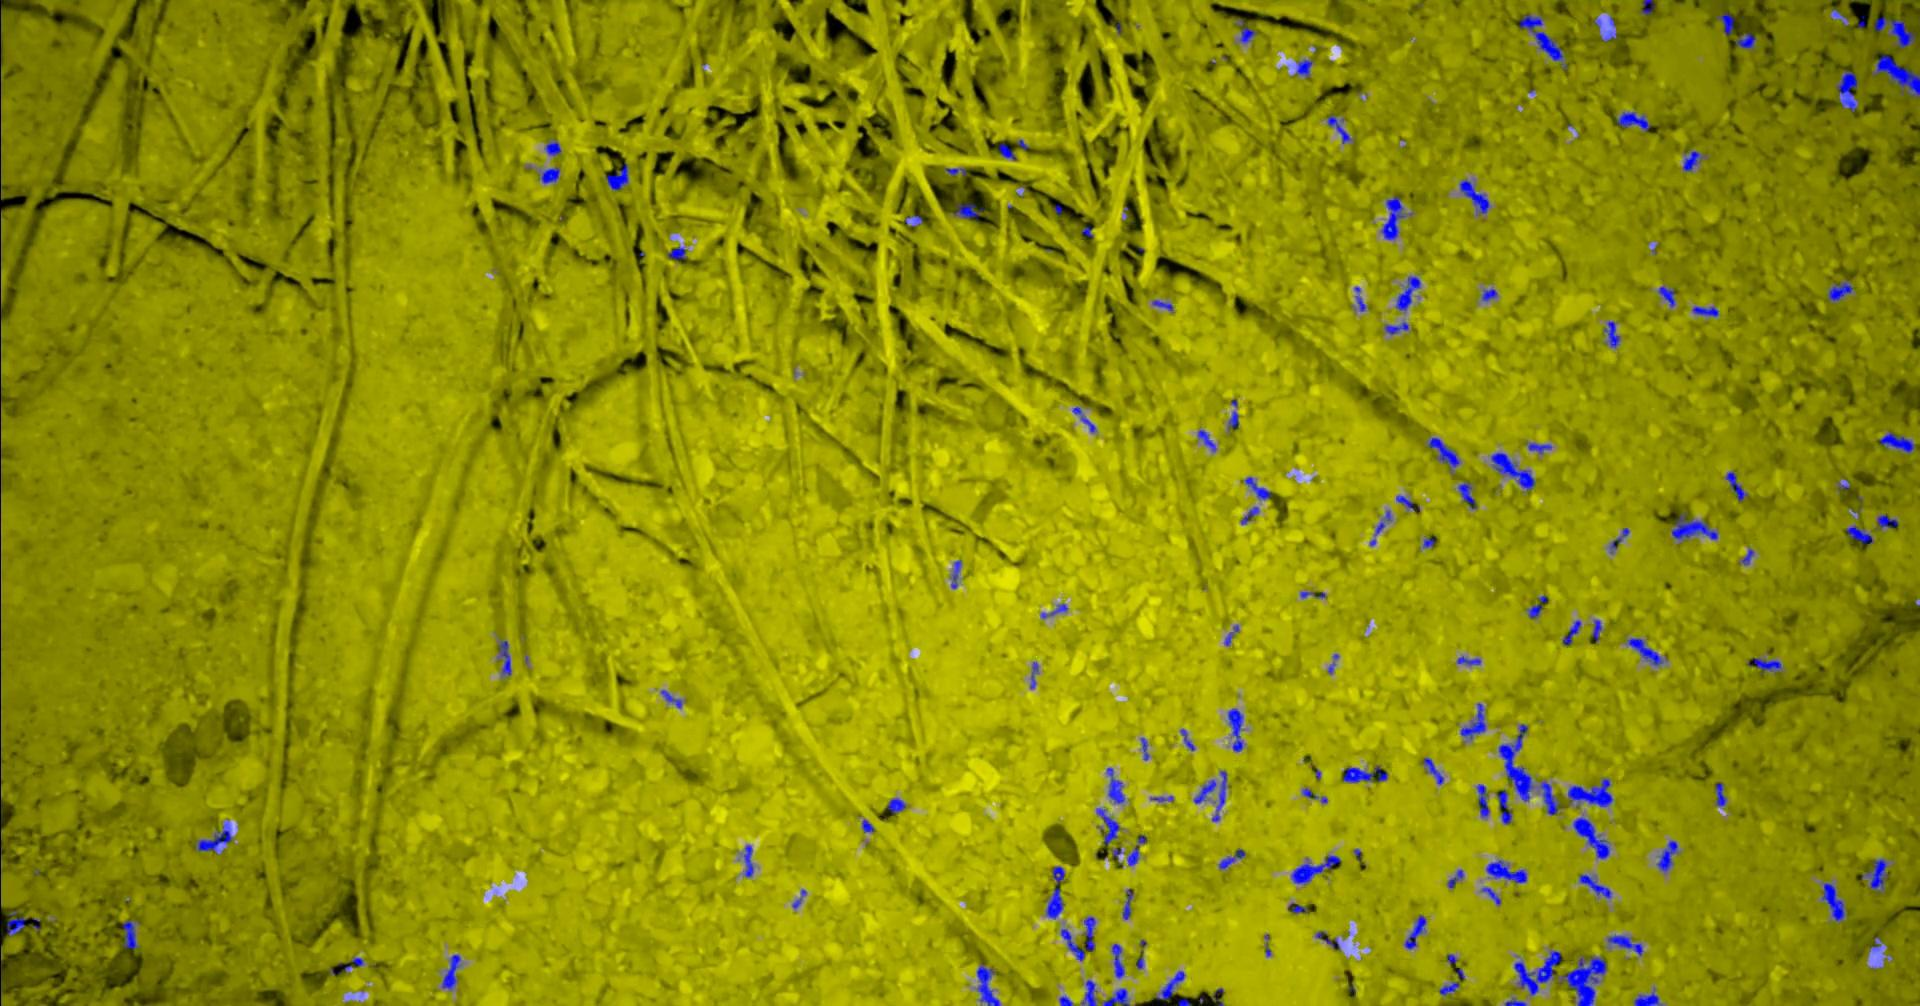ant: (1517, 14, 1567, 69), (1498, 723, 1533, 801), (1512, 949, 1559, 995), (1870, 53, 1919, 97), (1490, 452, 1535, 490), (1060, 916, 1095, 960), (1572, 817, 1609, 857), (1291, 855, 1340, 884), (1567, 777, 1611, 807), (1671, 512, 1717, 539), (1874, 17, 1914, 47), (1625, 636, 1666, 666), (197, 822, 232, 852), (1459, 180, 1490, 213), (1382, 196, 1404, 239), (1427, 437, 1459, 467), (977, 963, 999, 1005), (1046, 866, 1064, 918), (1862, 857, 1887, 893), (1821, 882, 1844, 921), (1460, 702, 1484, 739), (1836, 70, 1858, 111), (1486, 860, 1526, 882), (1096, 808, 1119, 845), (1578, 873, 1611, 898), (1396, 276, 1420, 310), (1156, 970, 1183, 1000), (1878, 431, 1915, 452), (1342, 765, 1387, 782), (1403, 915, 1426, 949), (1369, 511, 1390, 545), (1608, 934, 1642, 955), (1437, 968, 1464, 995), (1211, 770, 1225, 821), (1327, 114, 1351, 144), (1656, 840, 1677, 871), (441, 954, 460, 989), (604, 163, 629, 191), (1617, 111, 1650, 131), (1539, 781, 1559, 814), (1724, 471, 1747, 500), (1227, 708, 1242, 751), (1106, 767, 1124, 803), (1244, 476, 1271, 499), (1070, 406, 1095, 431), (952, 202, 983, 221), (1747, 657, 1782, 673), (1192, 779, 1215, 803), (1845, 525, 1872, 545), (1422, 757, 1443, 784), (1128, 835, 1145, 865), (5, 909, 25, 936), (1827, 279, 1851, 301), (1609, 527, 1629, 553), (1457, 481, 1476, 508), (1218, 848, 1244, 868), (1496, 790, 1511, 823), (121, 920, 138, 948), (1683, 150, 1705, 171), (1603, 320, 1619, 348), (1633, 988, 1661, 1005), (1237, 19, 1256, 43), (1111, 942, 1124, 978), (1079, 979, 1097, 1005), (1102, 988, 1129, 1005), (1528, 594, 1547, 617), (498, 640, 510, 674), (1476, 782, 1488, 817), (1562, 620, 1580, 644), (1716, 13, 1733, 36), (1657, 285, 1675, 307), (1040, 603, 1067, 619), (1316, 931, 1338, 949), (1197, 429, 1215, 451), (337, 956, 363, 970), (1302, 788, 1326, 803), (1239, 506, 1258, 525), (660, 690, 681, 708), (1396, 495, 1418, 511), (1481, 887, 1500, 904), (1735, 32, 1755, 48), (950, 559, 961, 588), (1352, 286, 1365, 311), (743, 845, 753, 876), (1123, 888, 1133, 920), (1295, 58, 1312, 77), (540, 166, 559, 183), (1384, 321, 1408, 334), (1876, 514, 1897, 528), (1224, 624, 1238, 645), (1180, 728, 1194, 749), (998, 144, 1016, 160), (886, 798, 905, 813), (1526, 442, 1550, 453), (1691, 306, 1718, 316), (1448, 869, 1463, 887), (667, 246, 686, 260), (1716, 781, 1726, 807), (545, 138, 560, 155), (1029, 661, 1037, 688), (1150, 298, 1172, 310), (1591, 619, 1601, 641), (1738, 547, 1752, 564), (1288, 902, 1307, 913), (1457, 655, 1481, 664), (1641, 0, 1655, 15), (1481, 288, 1497, 301), (1227, 412, 1238, 429), (1140, 737, 1149, 760), (943, 166, 965, 175), (861, 819, 874, 832), (1503, 998, 1526, 1005), (1422, 537, 1434, 547)
